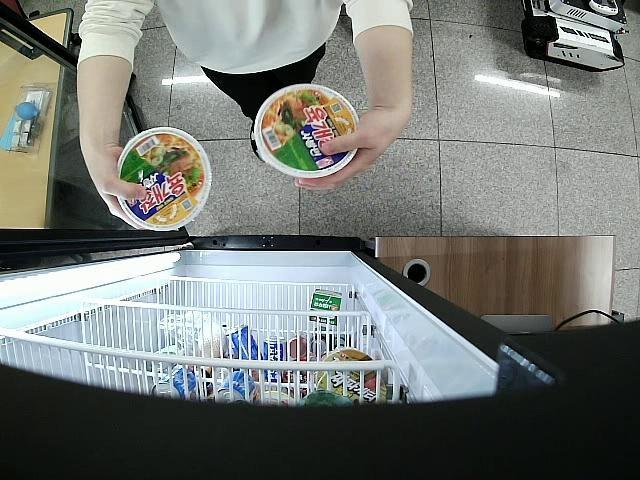09_yukGaeJang: (253, 84, 359, 180), (118, 126, 212, 230)
